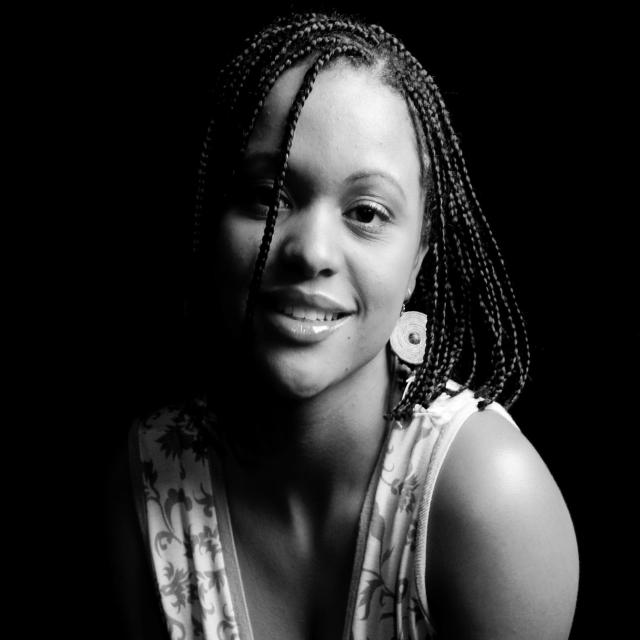no-glass: (237, 180, 391, 237)
